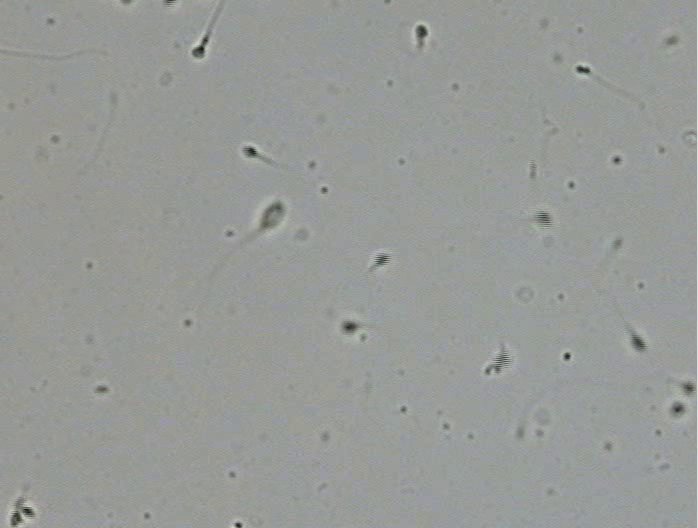S: (259, 201, 285, 228), (493, 350, 511, 368), (535, 211, 553, 229), (630, 334, 645, 352), (374, 253, 392, 266), (9, 511, 23, 527), (242, 146, 257, 159), (340, 321, 357, 332), (192, 45, 205, 59), (415, 25, 428, 39), (21, 506, 36, 518), (671, 403, 686, 414), (683, 382, 695, 395), (576, 65, 591, 75), (163, 1, 176, 7)
